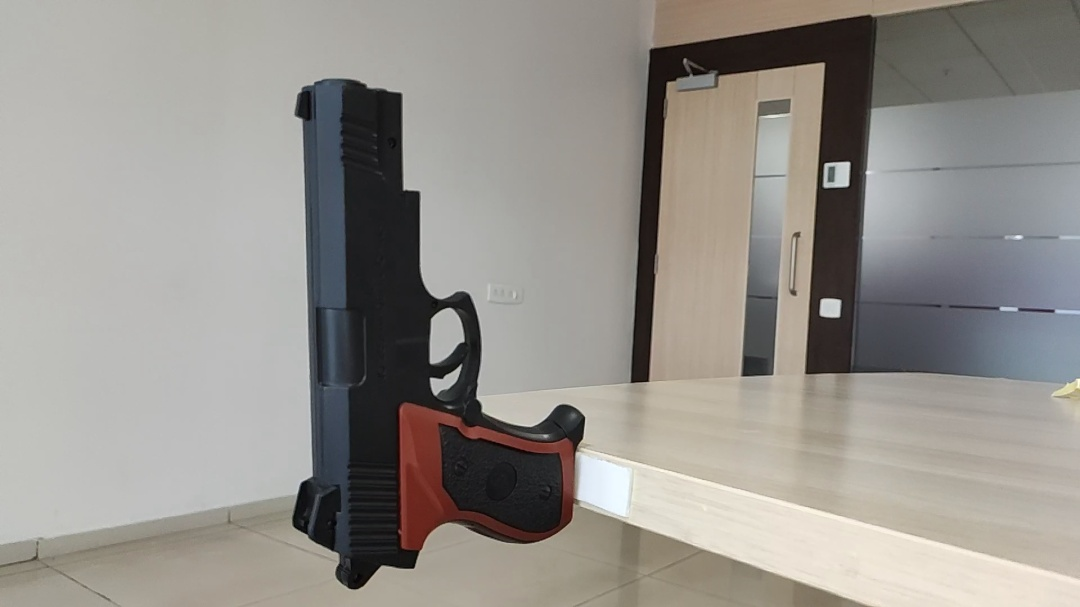gun: (371, 227, 417, 252)
